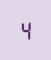four: (19, 20, 30, 40)
